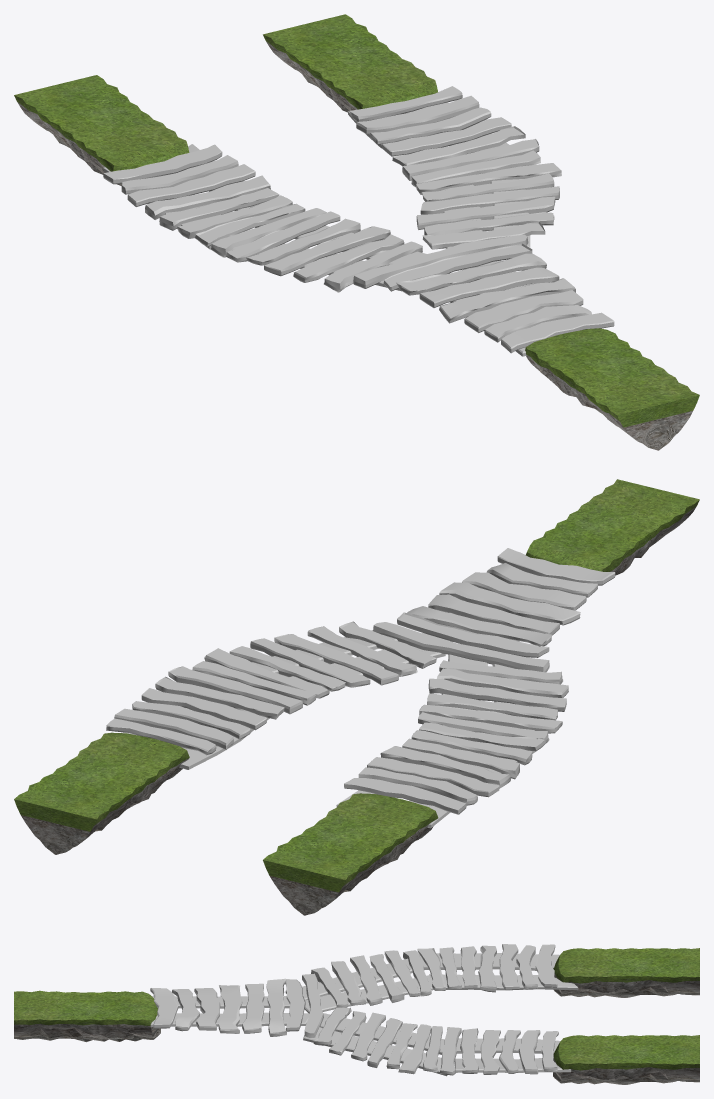
Rendered from Road_Split_Wood.FBX.
3 views of the same model, one above another, from view 1: azimuth 30°, elevation 25°; view 2: azimuth 150°, elevation 25°; view 3: azimuth 270°, elevation 25° (orthographic). The views are drawn at different scales.
Parts seen in each view (by area): view 1: Box048; view 2: Box048; view 3: Box048.
Part boxes in pixels (bbox=[...]): Box048: bbox=[14, 14, 699, 450]; Box048: bbox=[14, 479, 699, 915]; Box048: bbox=[14, 944, 699, 1084].
Size of the model in its own units: 1764 by 240 by 4000.
